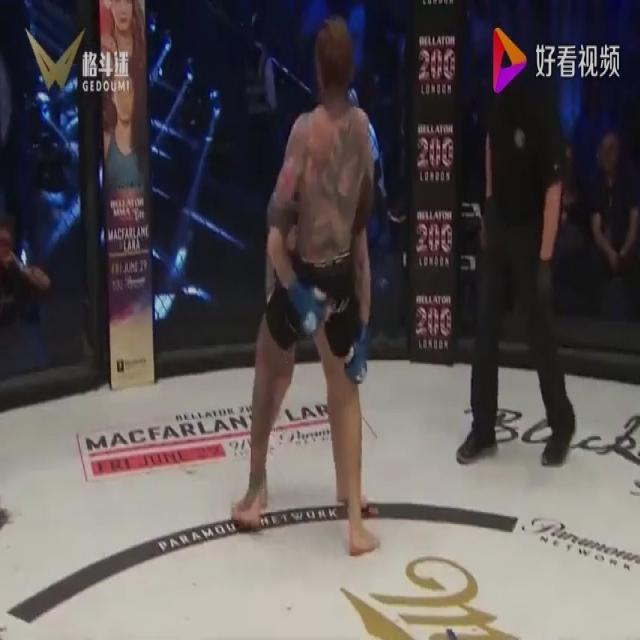fight: (226, 1, 390, 571)
non-fight: (442, 1, 590, 475)
